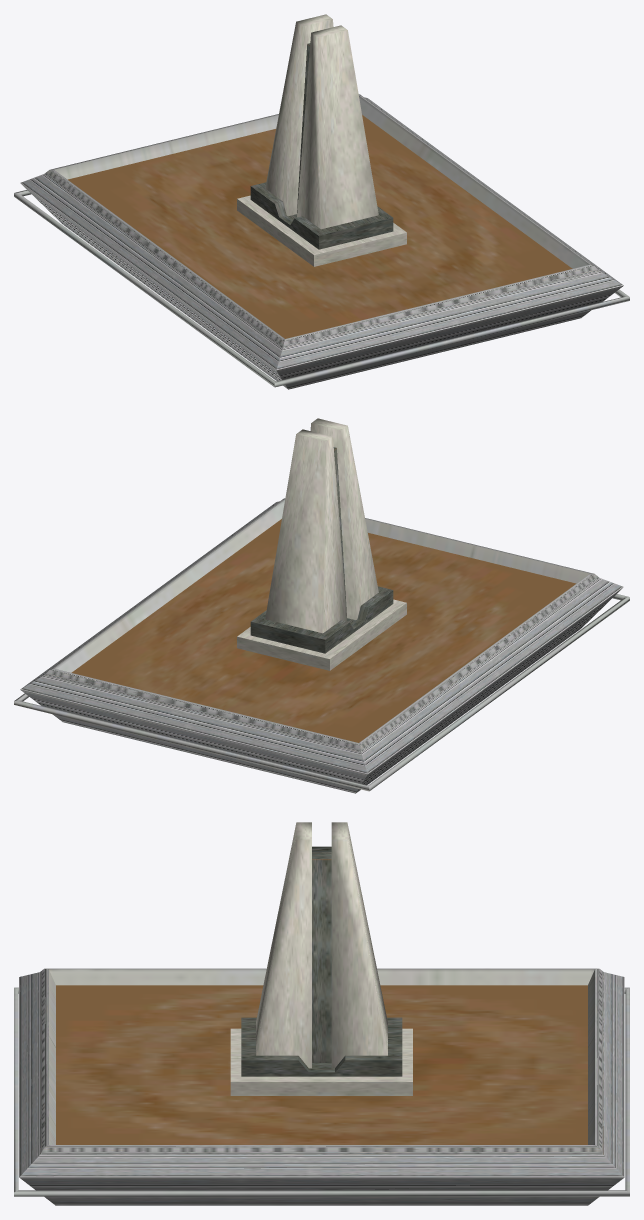
The model's file is thm_corl_fountain_rectangle_s01_l2.fbx.
The picture shows the model from 3 angles, top to bottom: view 1: azimuth 30°, elevation 25°; view 2: azimuth 150°, elevation 25°; view 3: azimuth 270°, elevation 25°; orthographic projection. The views are drawn at different scales.
Parts seen in each view (by area): view 1: mesh_node; view 2: mesh_node; view 3: mesh_node.
Boxes of the visible parts, box(x1,y1,x2,y2) form: mesh_node: box(14, 14, 629, 389); mesh_node: box(14, 418, 629, 793); mesh_node: box(14, 822, 629, 1205).
Size of the model in its own units: 7.14 by 4.71 by 9.07.
Materials: 2 (2 with a texture image).
